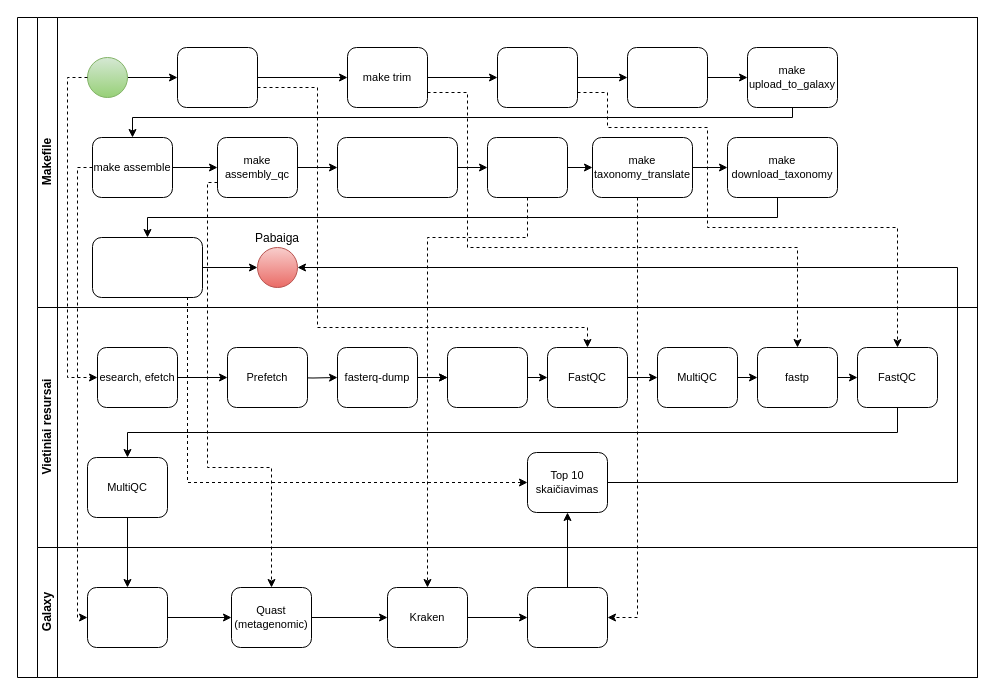
This 995x695 diagram has some shape labels left out. Here are the shapes that lost their labels. From the top down, the centre of each, then its label:
the point at 107,77: make download_data
the point at 217,77: make QC
the point at 537,77: make QC_after
the point at 667,77: make upload_to_ftp
the point at 397,167: make download_assembly_qc
the point at 527,167: make taxonomy_one
the point at 147,267: make taxonomy_result
the point at 487,377: pigz
the point at 127,617: MEGAHIT
the point at 567,617: Kraken-translate
